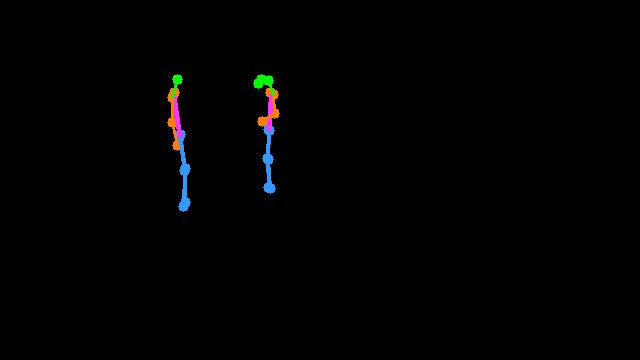normal: (132, 69, 313, 221)
